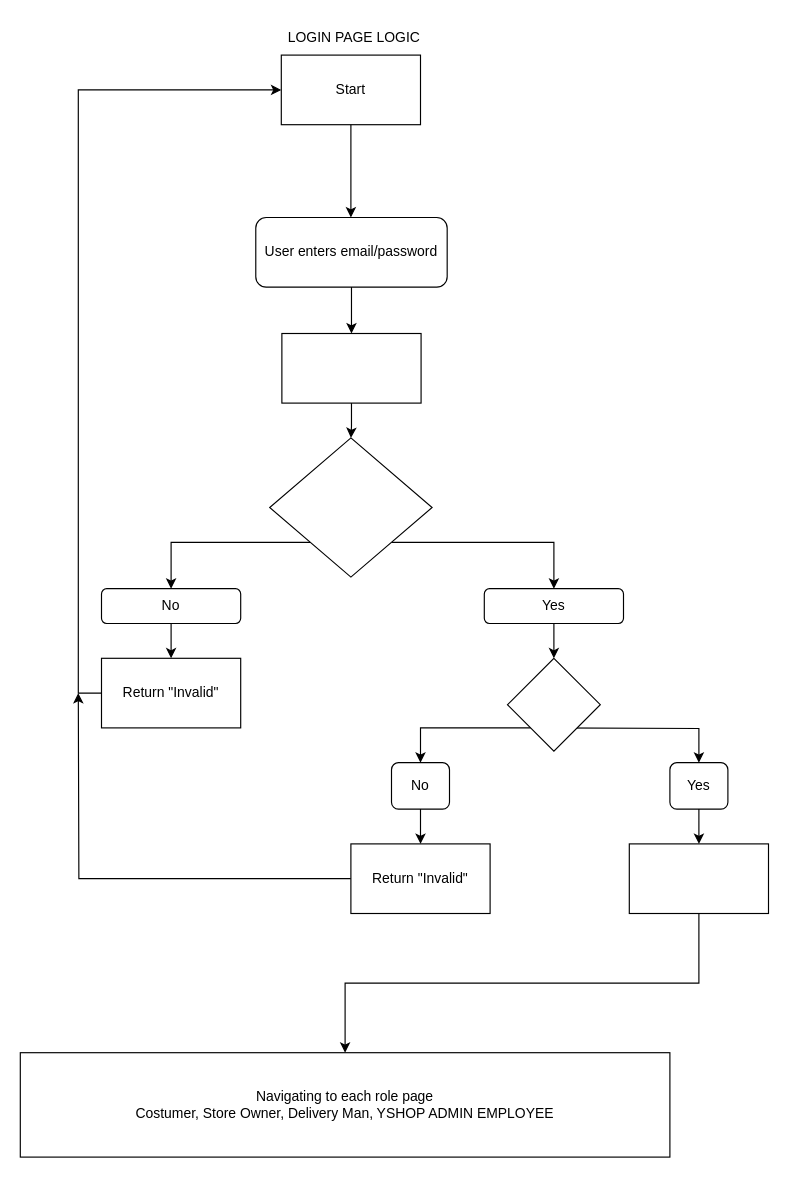
The diagram is 789 pixels wide and 1177 high, and some of its shapes have lost their labels. Each missing label, with the centre of its shape:
Check if user exists in DB?: (x=350, y=507)
Check password?: (x=553, y=704)
Return "Success": (x=698, y=878)
Send to Backend API: (x=351, y=367)
